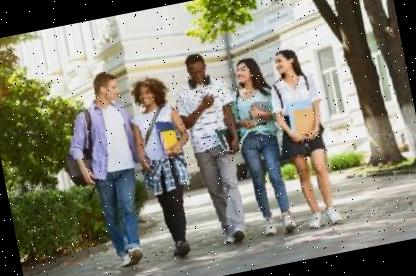person: (44, 66, 163, 276), (164, 44, 261, 255), (118, 71, 209, 269), (260, 42, 347, 243), (217, 48, 302, 244)
